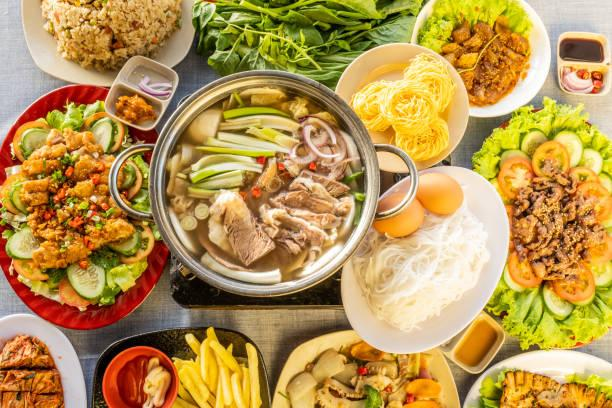Braised Crucian Carp: (149, 69, 384, 303), (2, 83, 168, 327), (348, 164, 507, 353), (329, 43, 468, 166), (409, 1, 548, 120), (555, 31, 612, 95)
